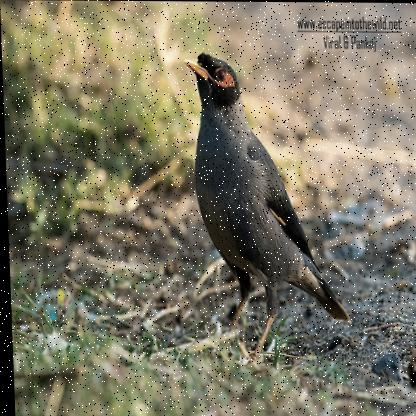Burung: (183, 47, 353, 368)
